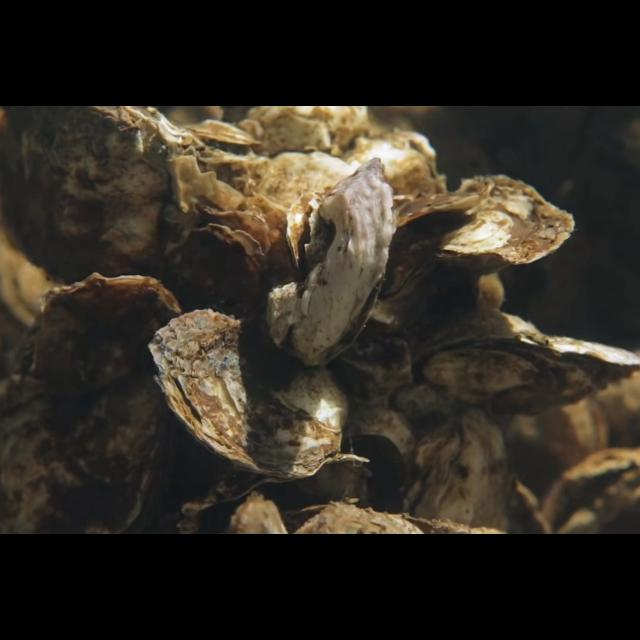Oyster-Closed: (0, 272, 184, 534), (0, 106, 220, 288), (146, 308, 352, 482), (264, 157, 398, 369), (382, 175, 576, 302), (392, 405, 516, 535), (161, 222, 267, 326)
Oyster-Open: (410, 311, 640, 423), (196, 453, 370, 535), (542, 447, 640, 535), (180, 117, 262, 167)
